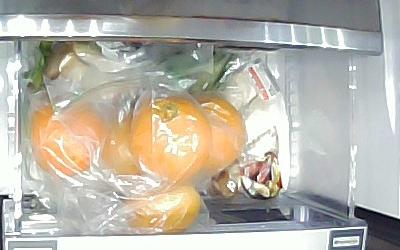orange_vinyl: (132, 99, 212, 181), (32, 100, 106, 179), (194, 96, 246, 173), (122, 185, 199, 234), (100, 116, 145, 177)
